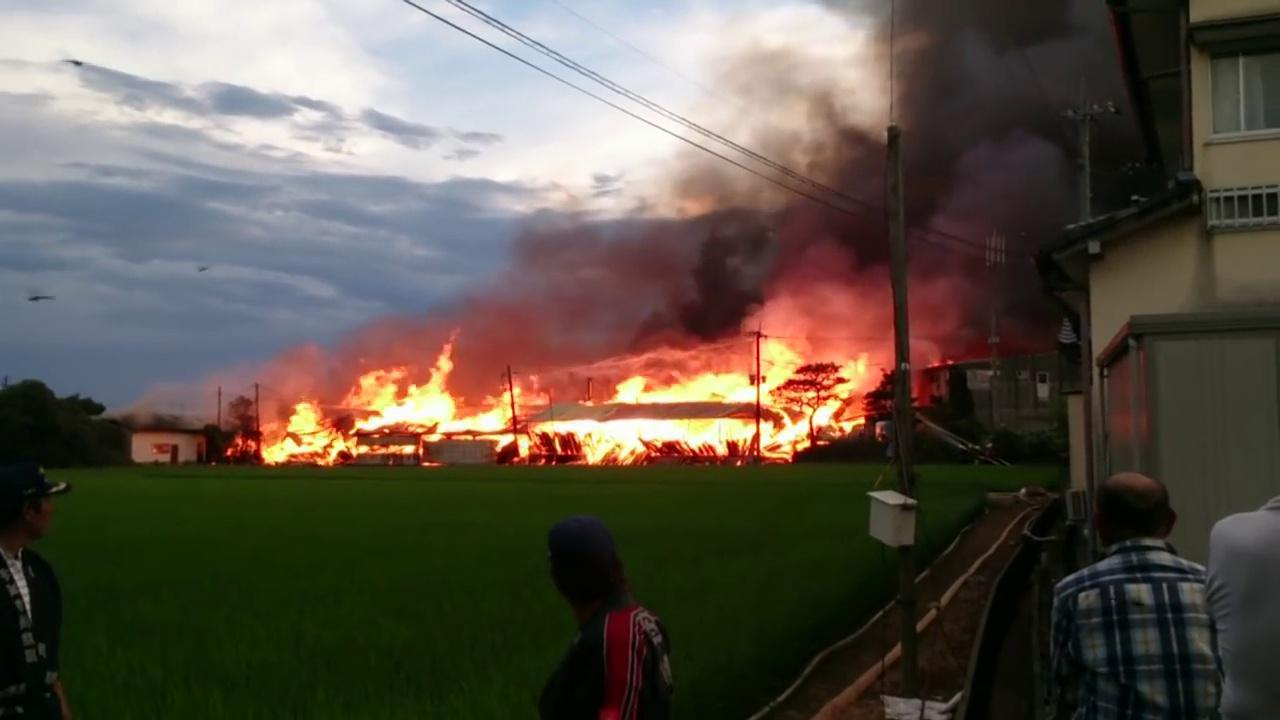Fire: (223, 342, 869, 465)
